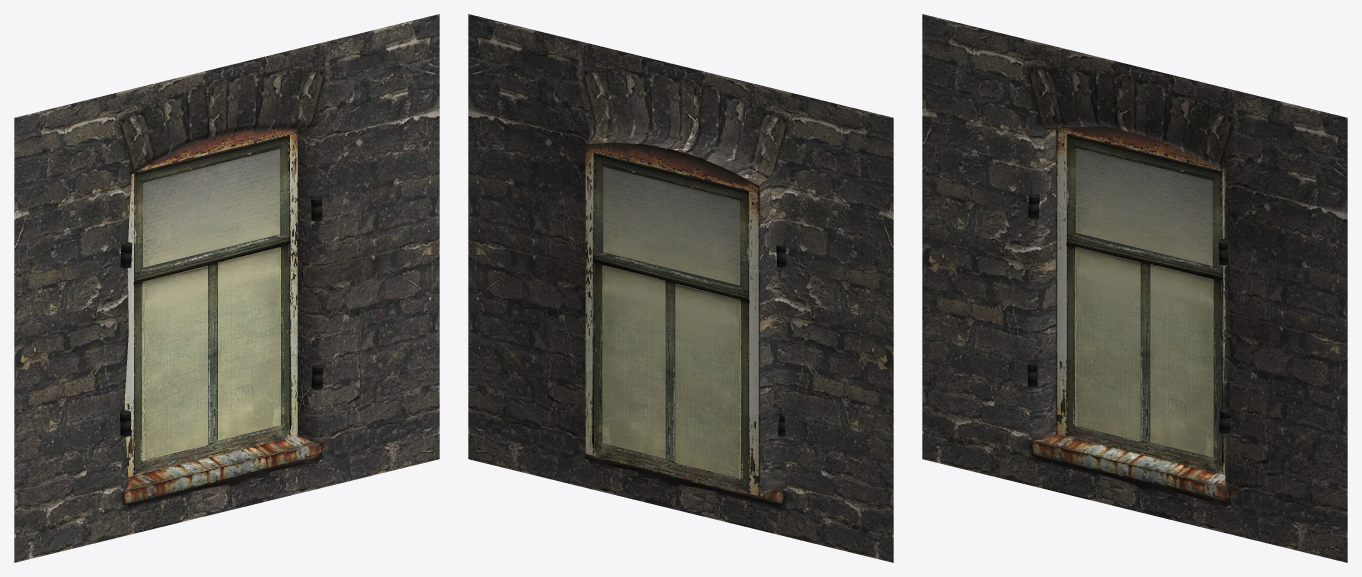
Rendered from factory_facade_02_lit.DAE.
3 views of the same model, side by side, from view 1: azimuth 30°, elevation 25°; view 2: azimuth 150°, elevation 25°; view 3: azimuth 330°, elevation 25° (orthographic).
Parts seen in each view (by area): view 1: Object097, Box121, Object098; view 2: Object097, Box121; view 3: Object097, Box121, Object098.
Part boxes in pixels (<box>): Object097: <box>14,14,439,516</box>; Box121: <box>14,39,439,562</box>; Object098: <box>120,196,323,437</box>; Object097: <box>468,14,893,516</box>; Box121: <box>468,39,893,562</box>; Object097: <box>922,14,1347,516</box>; Box121: <box>922,37,1347,562</box>; Object098: <box>1027,193,1230,434</box>.
Size of the model in its own units: 4 by 4 by 0.247.
